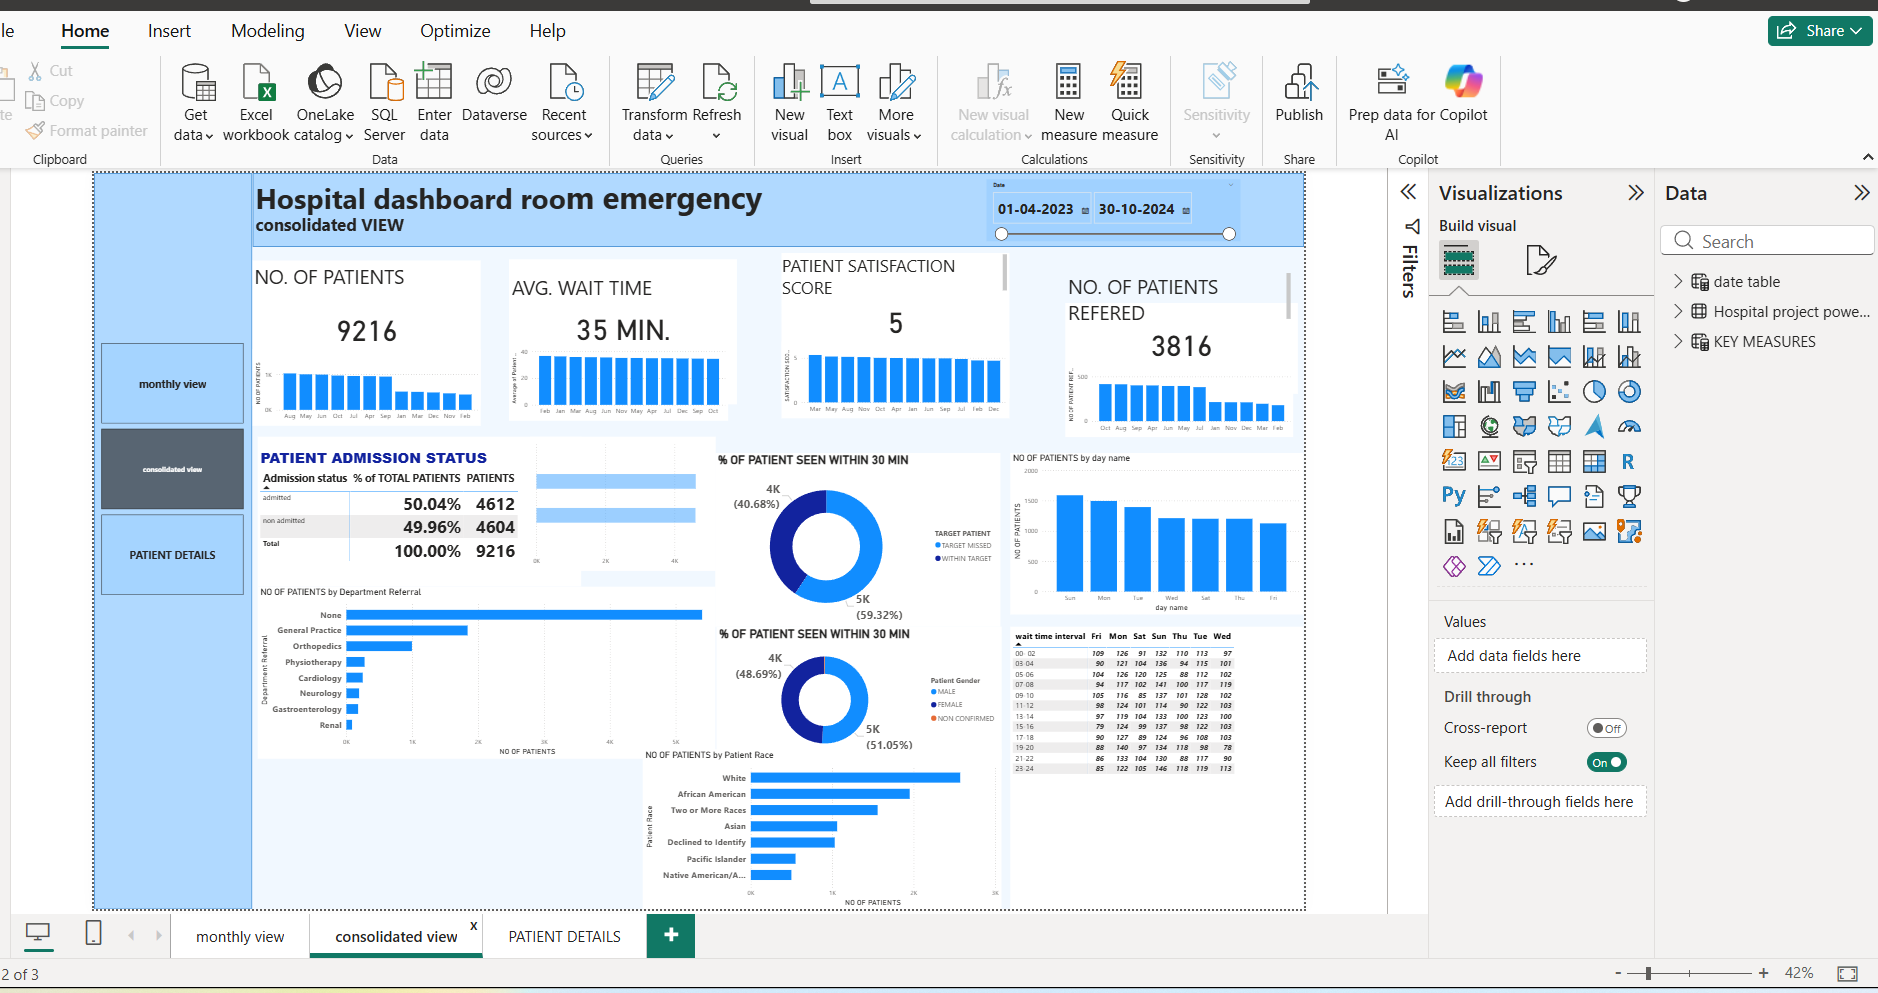

This screenshot's page, from the dashboard's own definition file:
{"tool":"powerbi","page":{"name":"consolidated view","canvas":[2300,1400],"ordinal":1},"visuals":[{"type":"shape","box":[0,0,300.8,1400.5],"z":0},{"type":"shape","box":[300.8,0,1999.7,140.5],"z":1000},{"type":"textbox","box":[300.8,0,1035.6,103.6],"z":2000},{"type":"textbox","box":[300.8,71.5,300.8,140.5],"z":3000},{"type":"slicer","fields":{"Values":["date table.Date"]},"box":[1697.5,12.5,482.5,117.5],"z":4000},{"type":"card","fields":{"Values":["KEY MEASURES.NO OF PATIENT REFERED"]},"box":[1847.5,247.5,442.5,172.5],"z":5000},{"type":"textbox","box":[1846.8,186.4,434.1,103],"z":6000},{"type":"columnChart","fields":{"Category":["date table.month name"],"Y":["KEY MEASURES.NO OF PATIENT REFERED"]},"box":[1847.7,357,434,145.5],"z":7000},{"type":"card","fields":{"Values":["KEY MEASURES.NO OF PATIENTS"]},"box":[301.4,165.3,434,276.2],"z":8000},{"type":"textbox","box":[300.5,165.8,305.7,83.8],"z":9000},{"type":"columnChart","fields":{"Category":["date table.month name"],"Y":["KEY MEASURES.NO OF PATIENTS"]},"box":[301.4,335.4,434,145.5],"z":10000},{"type":"card","fields":{"Values":["KEY MEASURES.AVG. WAIT TIME"]},"box":[789,165.2,434,276.2],"z":11000},{"type":"textbox","box":[789,187.4,392,83.8],"z":12000},{"type":"columnChart","fields":{"Category":["date table.month name"],"Y":["Avg(Hospital project power bi.Patient Waittime)"]},"box":[789,325.5,416.7,145.5],"z":13000},{"type":"card","fields":{"Values":["KEY MEASURES.SATISFACTION SCORE"]},"box":[1307.4,151.4,434,276.2],"z":14000},{"type":"textbox","box":[1301.9,150.4,438.9,86.3],"z":15000},{"type":"columnChart","fields":{"Category":["date table.month name"],"Y":["KEY MEASURES.SATISFACTION SCORE"]},"box":[1307.4,321.6,434,145.5],"z":16000},{"type":"pivotTable","title":"PATIENT ADMISSION STATUS","fields":{"Rows":["Hospital project power bi.admission status"],"Values":["KEY MEASURES.NO OF PATIENTS","KEY MEASURES.NO OF PATIENTS1"]},"box":[312.5,502.5,615,285],"z":17000},{"type":"barChart","fields":{"Category":["Hospital project power bi.Admission status"],"Y":["KEY MEASURES.NO OF PATIENTS"]},"box":[830,502.5,352.5,255],"z":18000},{"type":"clusteredBarChart","fields":{"Category":["Hospital project power bi.Department Referral"],"Y":["KEY MEASURES.NO OF PATIENTS"]},"box":[312.5,787.5,870,327.5],"z":19000},{"type":"donutChart","title":"% OF PATIENT SEEN WITHIN 30 MIN","fields":{"Category":["Hospital project power bi.TARGET PATIENT"],"Y":["KEY MEASURES.NO OF PATIENTS"]},"box":[1182.5,532.5,542.5,330],"z":20000},{"type":"donutChart","title":"% OF PATIENT SEEN WITHIN 30 MIN","fields":{"Y":["KEY MEASURES.NO OF PATIENTS"],"Category":["Hospital project power bi.Patient Gender"]},"box":[1185,862.5,542.5,252.5],"z":21000},{"type":"clusteredBarChart","fields":{"Y":["KEY MEASURES.NO OF PATIENTS"],"Category":["Hospital project power bi.Patient Race"]},"box":[1045,1095,682.5,305],"z":22000},{"type":"pivotTable","fields":{"Rows":["Hospital project power bi.wait time interval"],"Columns":["date table.day name"],"Values":["KEY MEASURES.NO OF PATIENTS"]},"box":[1742.5,862.5,557.5,537.5],"z":23000},{"type":"columnChart","fields":{"Category":["date table.day name"],"Y":["KEY MEASURES.NO OF PATIENTS"]},"box":[1742.5,532.5,557.5,307.5],"z":24000},{"type":"pageNavigator","box":[15,322.5,270,480],"z":25000}]}

Visuals, with their boxes on the page's 2300x1400 design canvas (x1, y1, x2, y2). These are canvas units, not pixel positions in the 1878x993 screenshot, which may show the page scaled, cropped or inside an application window:
shape: (0,0,301,1400)
shape: (301,0,2300,140)
textbox: (301,0,1336,104)
textbox: (301,72,602,212)
slicer - date table.Date: (1698,12,2180,130)
card - KEY MEASURES.NO OF PATIENT REFERED: (1848,248,2290,420)
textbox: (1847,186,2281,289)
columnChart - date table.month name x KEY MEASURES.NO OF PATIENT REFERED: (1848,357,2282,502)
card - KEY MEASURES.NO OF PATIENTS: (301,165,735,442)
textbox: (300,166,606,250)
columnChart - date table.month name x KEY MEASURES.NO OF PATIENTS: (301,335,735,481)
card - KEY MEASURES.AVG. WAIT TIME: (789,165,1223,441)
textbox: (789,187,1181,271)
columnChart - date table.month name x Avg(Hospital project power bi.Patient Waittime): (789,326,1206,471)
card - KEY MEASURES.SATISFACTION SCORE: (1307,151,1741,428)
textbox: (1302,150,1741,237)
columnChart - date table.month name x KEY MEASURES.SATISFACTION SCORE: (1307,322,1741,467)
"PATIENT ADMISSION STATUS" pivotTable: (312,502,928,788)
barChart - Hospital project power bi.Admission status x KEY MEASURES.NO OF PATIENTS: (830,502,1182,758)
clusteredBarChart - Hospital project power bi.Department Referral x KEY MEASURES.NO OF PATIENTS: (312,788,1182,1115)
"% OF PATIENT SEEN WITHIN 30 MIN" donutChart: (1182,532,1725,862)
"% OF PATIENT SEEN WITHIN 30 MIN" donutChart: (1185,862,1728,1115)
clusteredBarChart - KEY MEASURES.NO OF PATIENTS x Hospital project power bi.Patient Race: (1045,1095,1728,1400)
pivotTable - Hospital project power bi.wait time interval x date table.day name: (1742,862,2300,1400)
columnChart - date table.day name x KEY MEASURES.NO OF PATIENTS: (1742,532,2300,840)
pageNavigator: (15,322,285,802)
